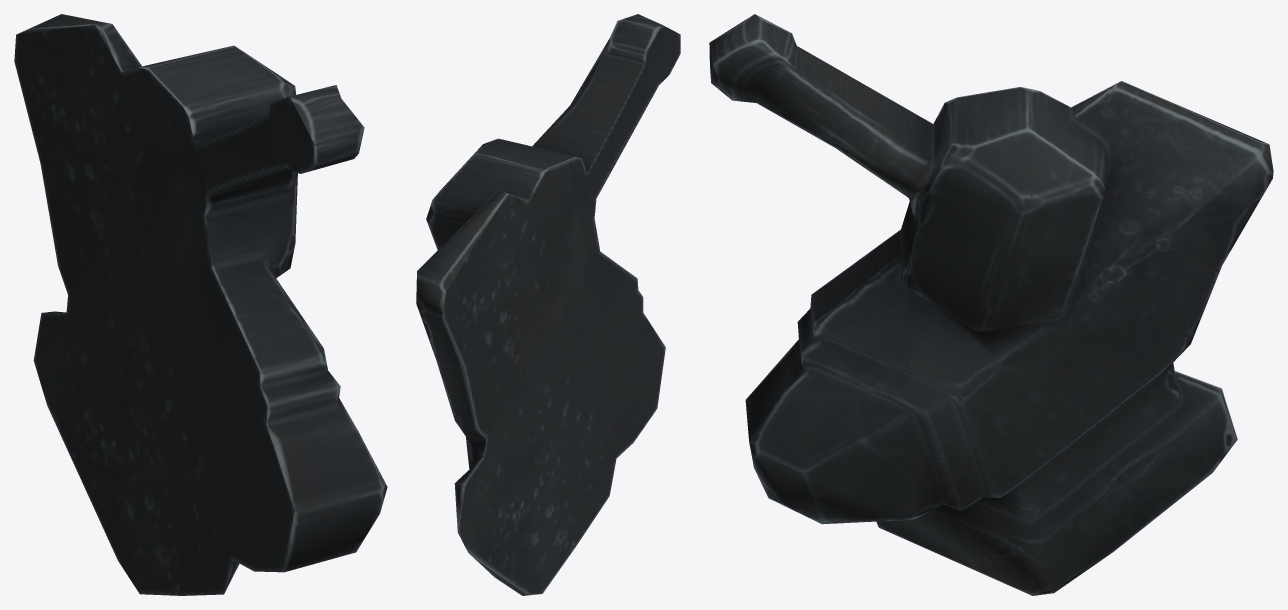
Rendered from S_MVIllage_Sign_ID_Blacksmith_A.fbx.
3 renders of one model, left to right at view 1: azimuth 30°, elevation 25°; view 2: azimuth 150°, elevation 25°; view 3: azimuth 270°, elevation 25°, orthographic. The views are drawn at different scales.
Visible parts, largest first — view 1: S_MVillage_Sign_ID_Blacksmith_LOD0; view 2: S_MVillage_Sign_ID_Blacksmith_LOD0; view 3: S_MVillage_Sign_ID_Blacksmith_LOD0.
Part boxes in pixels (x1,y1,x2,y2): S_MVillage_Sign_ID_Blacksmith_LOD0: (14, 14, 387, 595); S_MVillage_Sign_ID_Blacksmith_LOD0: (416, 14, 680, 595); S_MVillage_Sign_ID_Blacksmith_LOD0: (709, 14, 1273, 595).
Size of what is drawn, in the model's own units: 15.61 by 67.66 by 60.52.
